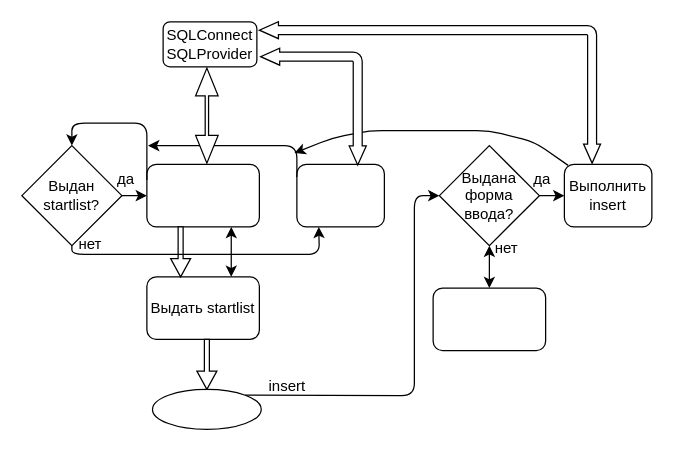
Some shapes in this 674 by 453 pixel diagram are drawn without their labels. The shapes that lost their labels are listed below. From the top down, each one's box as (x1, y1, x2, y2) in pixels, then its label:
(146, 163, 259, 227): Сформировать данные
(296, 163, 384, 227): Выполнить delete
(432, 287, 546, 351): Выдать форму ввода
